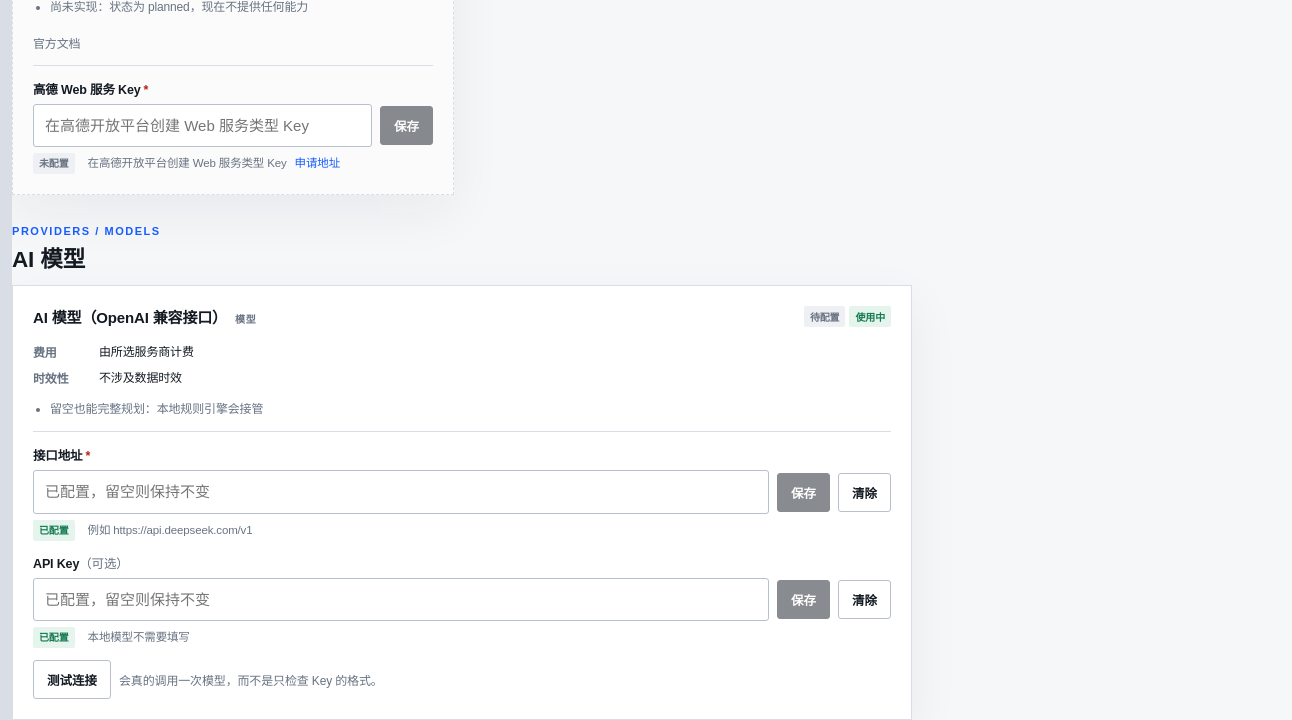
ProviderCatalog › offers a real connection test for the model, not a format check
The image size is (1292, 720).
(page scrolled)
Expected: the text "会真的调用一次模型，而不是只检查 Key 的格式。" is shown, [119, 671, 383, 688]
Step 1. Click the button "测试连接" → click(72, 680), box [33, 660, 111, 699]
(page scrolled)
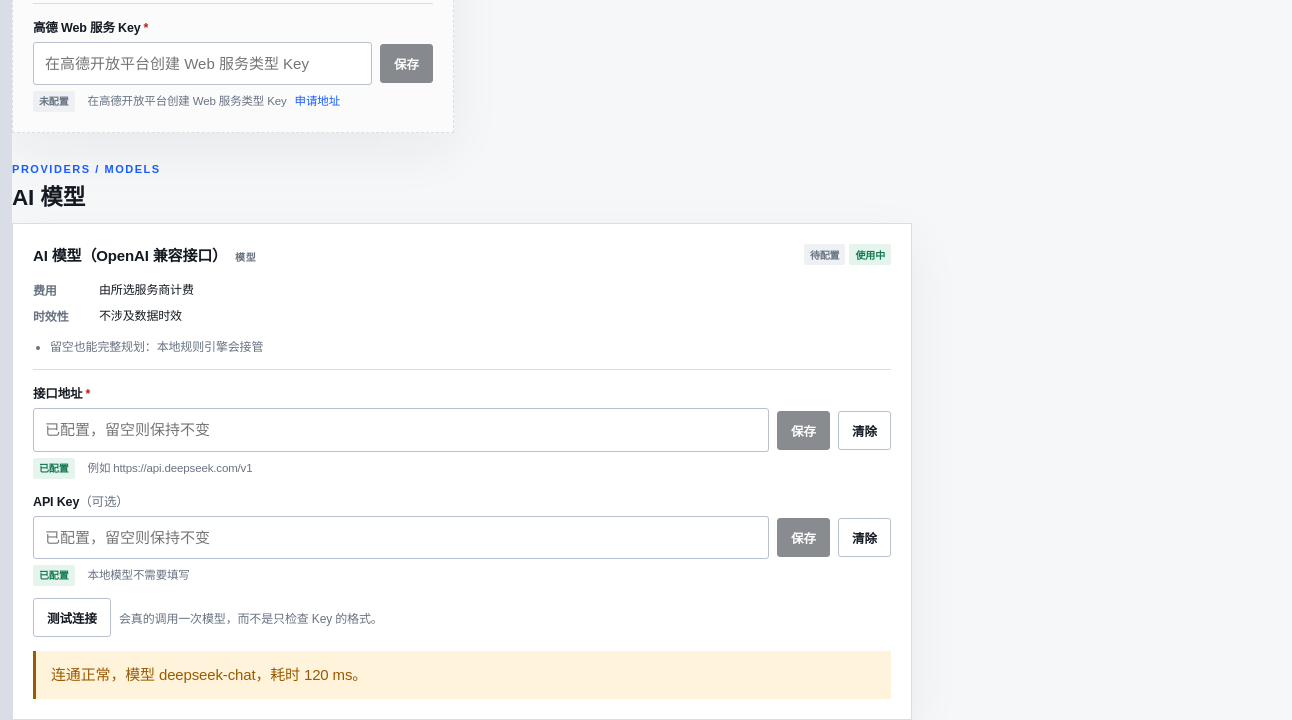
Now the text "连通正常，模型 deepseek-chat，耗时 120 ms。" is shown, box [33, 651, 891, 699]
